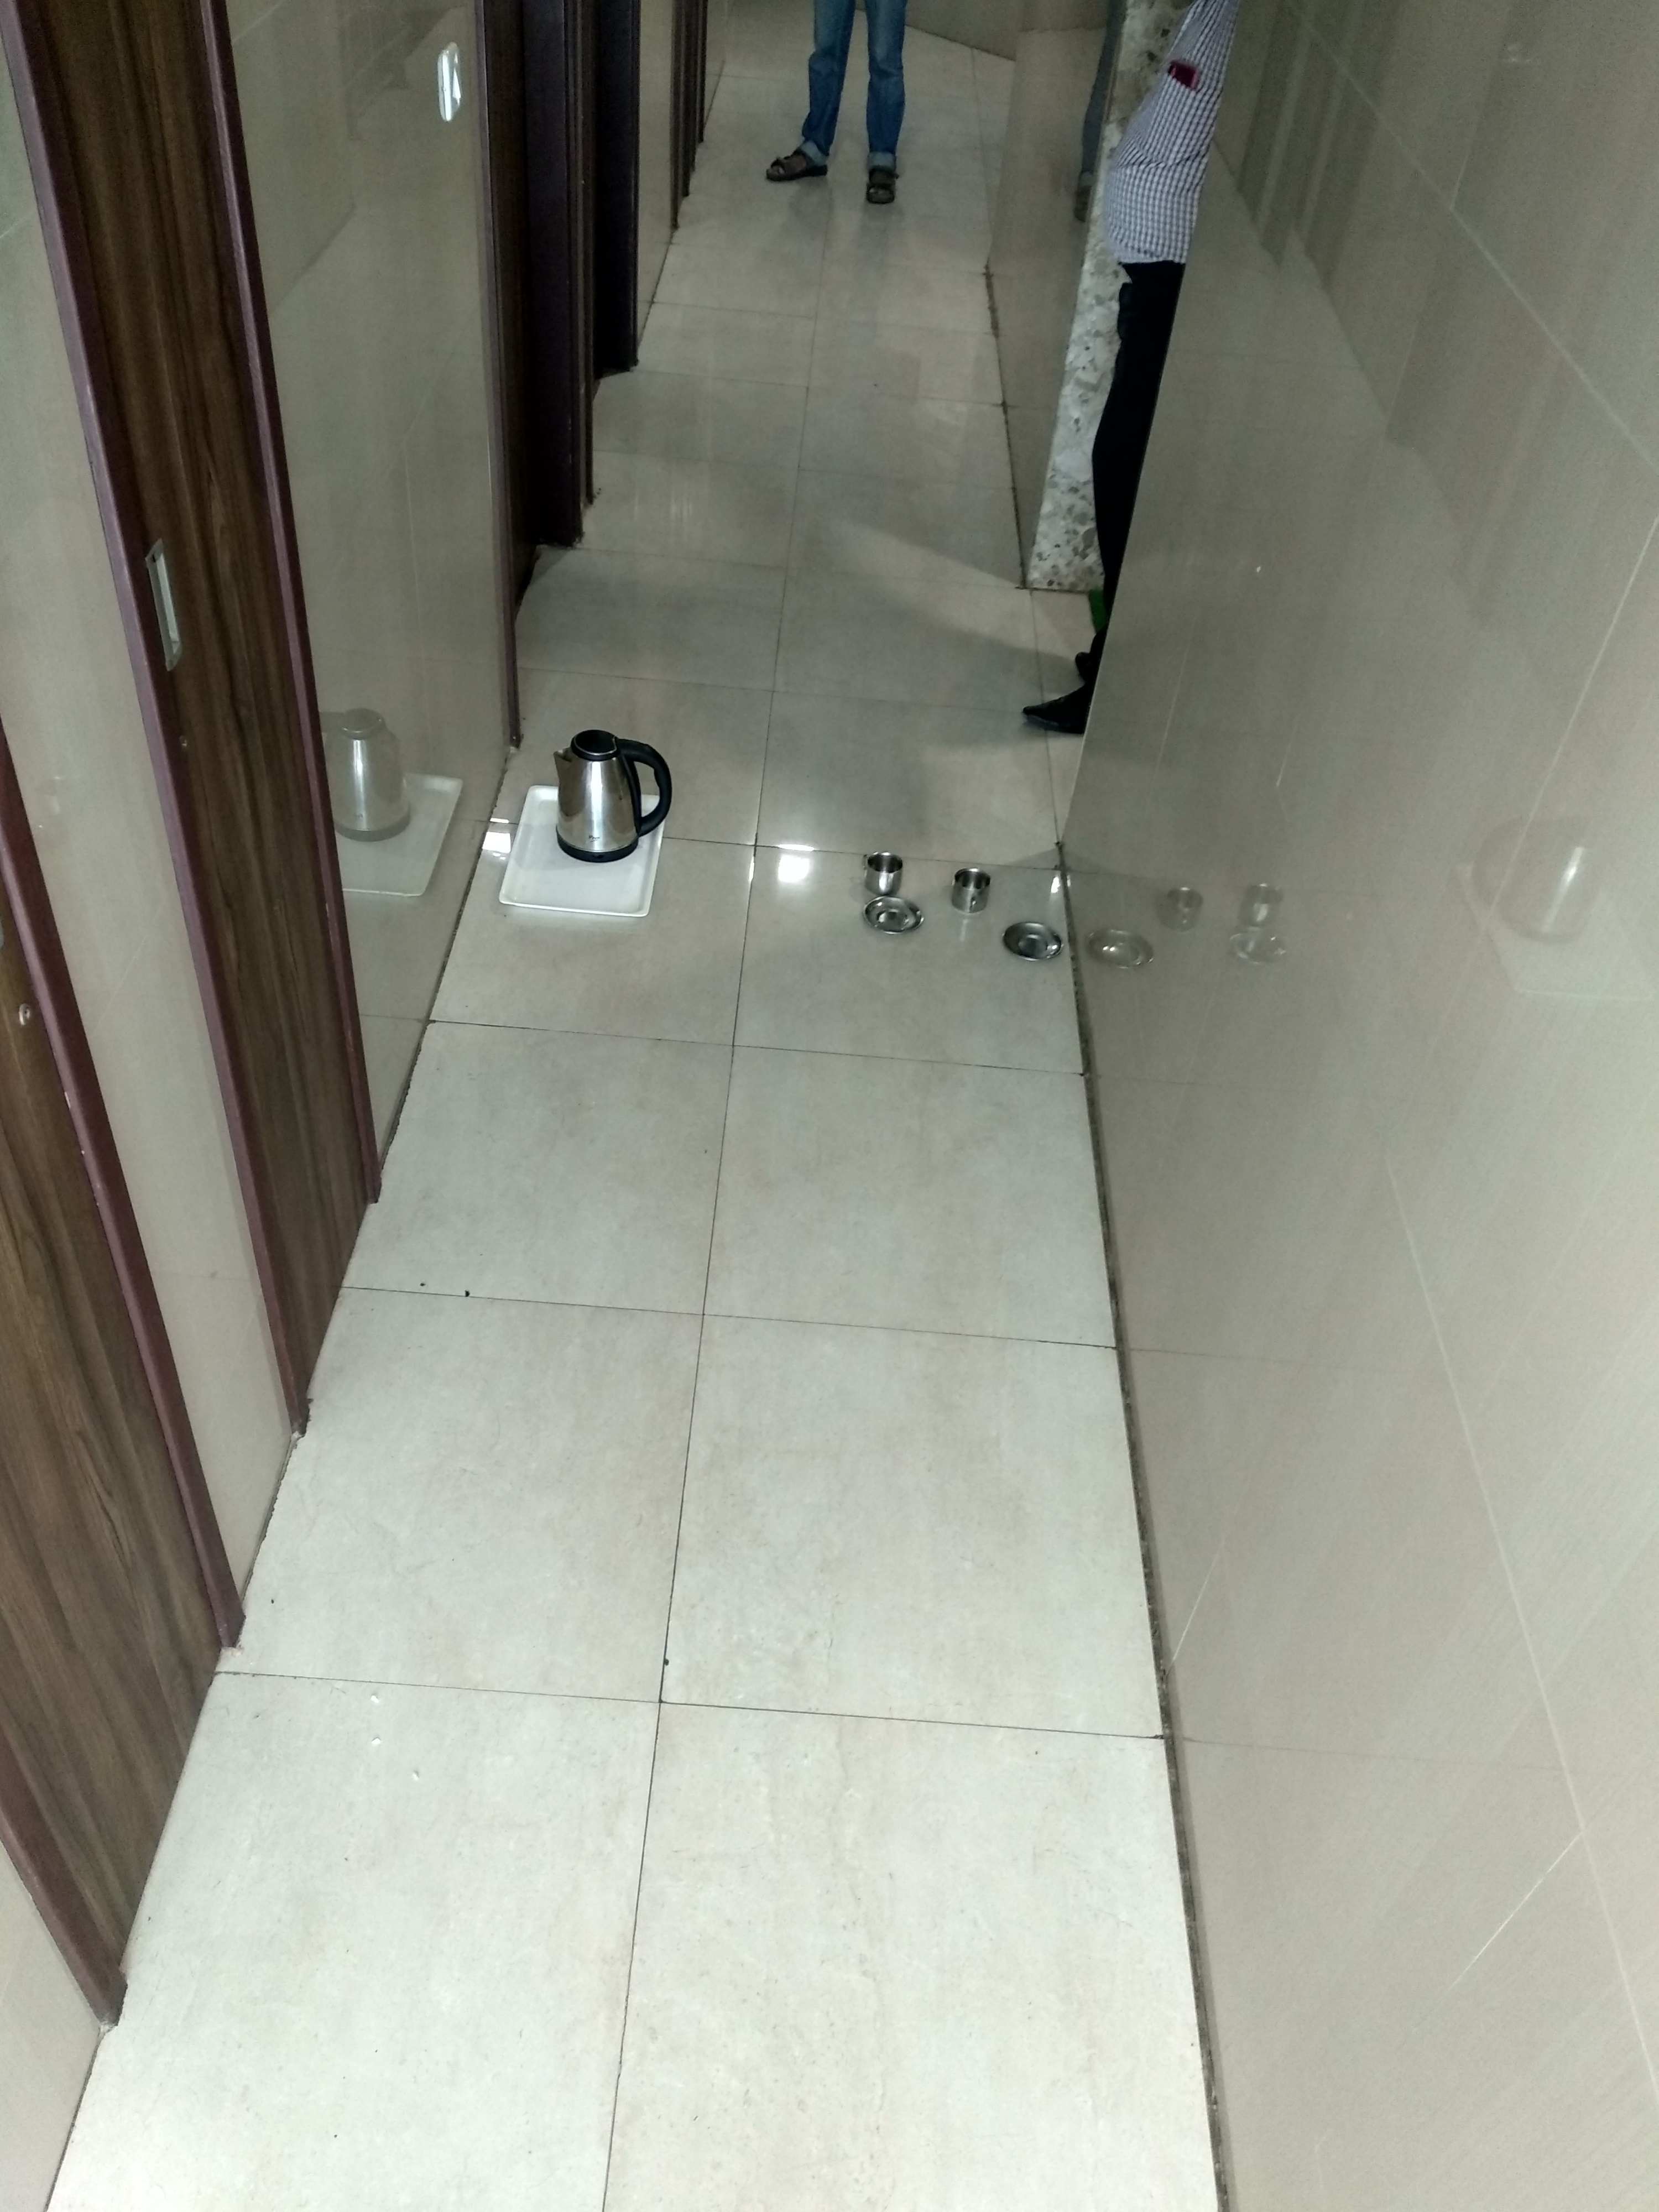CUP: (950, 867, 992, 918), (864, 850, 908, 894)
FLASK: (565, 728, 659, 853)
